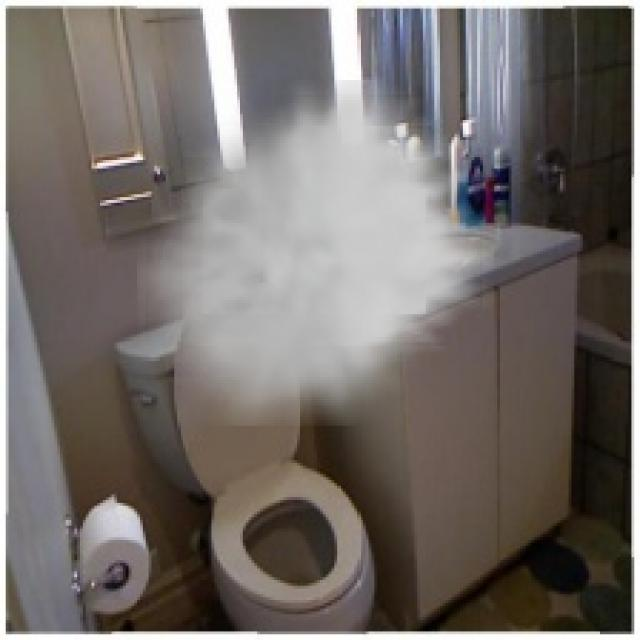smoke: (137, 80, 494, 426)
